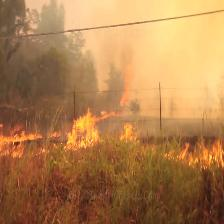fire: (0, 103, 224, 170)
nofire: (0, 157, 213, 224)
smoke: (27, 1, 224, 118)
